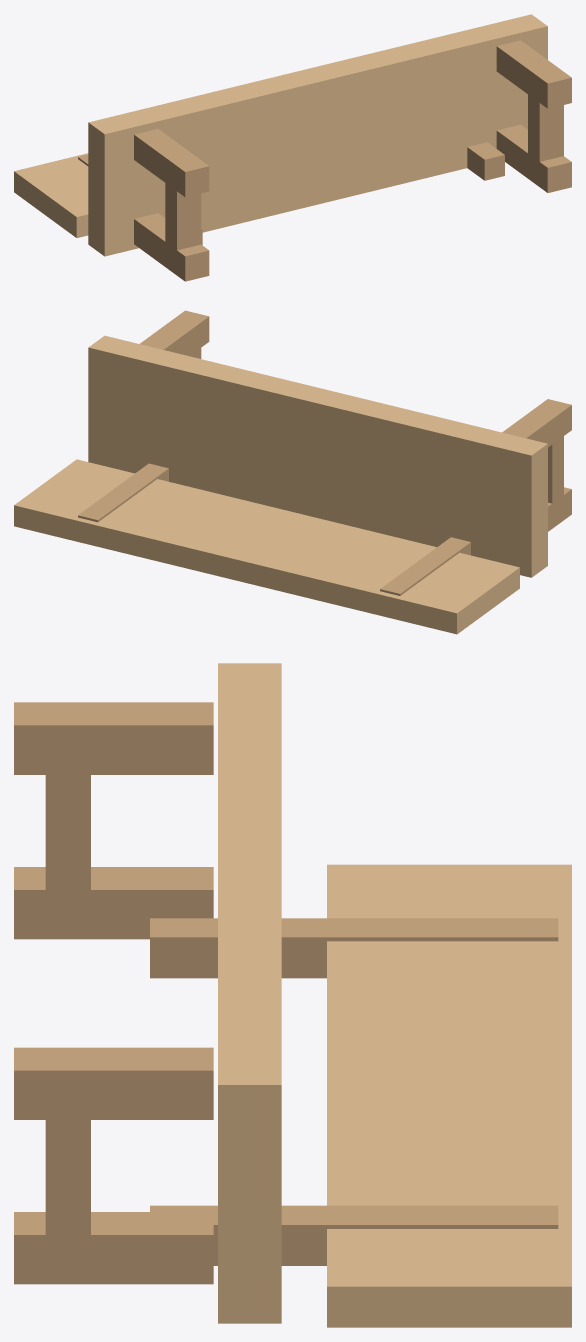
File: bench.glb
3 views of the same model, one above another, from view 1: azimuth 30°, elevation 25°; view 2: azimuth 150°, elevation 25°; view 3: azimuth 270°, elevation 25° (orthographic). The views are drawn at different scales.
Parts seen in each view (by area): view 1: Seat, Back, Leg-0.90.2, Leg0.90.2, Leg-0.9-0.2, Leg0.9-0.2, FootRest-0.9, FootRest0.9, BackSup0.75; view 2: Seat, Back, Leg0.90.2, Leg-0.90.2, BackSup0.75, BackSup-0.75, FootRest-0.9, Leg-0.9-0.2; view 3: Back, Seat, Leg-0.90.2, Leg0.90.2, Leg0.9-0.2, BackSup-0.75, Leg-0.9-0.2, BackSup0.75, FootRest0.9, FootRest-0.9.
Boxes of the visible parts, x1,y1,x2,y2 form: Seat: (88,14,547,256); Back: (14,153,88,237); Leg-0.90.2: (134,129,209,197); Leg0.90.2: (496,40,571,108); Leg-0.9-0.2: (134,213,209,281); Leg0.9-0.2: (496,124,571,192); FootRest-0.9: (165,168,201,264); FootRest0.9: (528,81,563,176); BackSup0.75: (467,142,504,180); Seat: (88,335,547,577); Back: (14,459,519,634); Leg0.90.2: (140,310,209,356); Leg-0.90.2: (502,399,571,447); BackSup0.75: (78,463,168,522); BackSup-0.75: (380,537,470,595); FootRest-0.9: (548,425,563,517); Leg-0.9-0.2: (548,487,571,531); Back: (327,864,571,1327); Seat: (218,663,281,1323); Leg-0.90.2: (14,702,213,774); Leg0.90.2: (14,1047,213,1119); Leg0.9-0.2: (14,1212,213,1284); BackSup-0.75: (150,918,558,978); Leg-0.9-0.2: (14,867,213,939); BackSup0.75: (150,1205,558,1265); FootRest0.9: (45,1091,90,1263); FootRest-0.9: (45,746,90,918).
Size of the model in its own units: 2.2 by 0.59 by 1.23.
